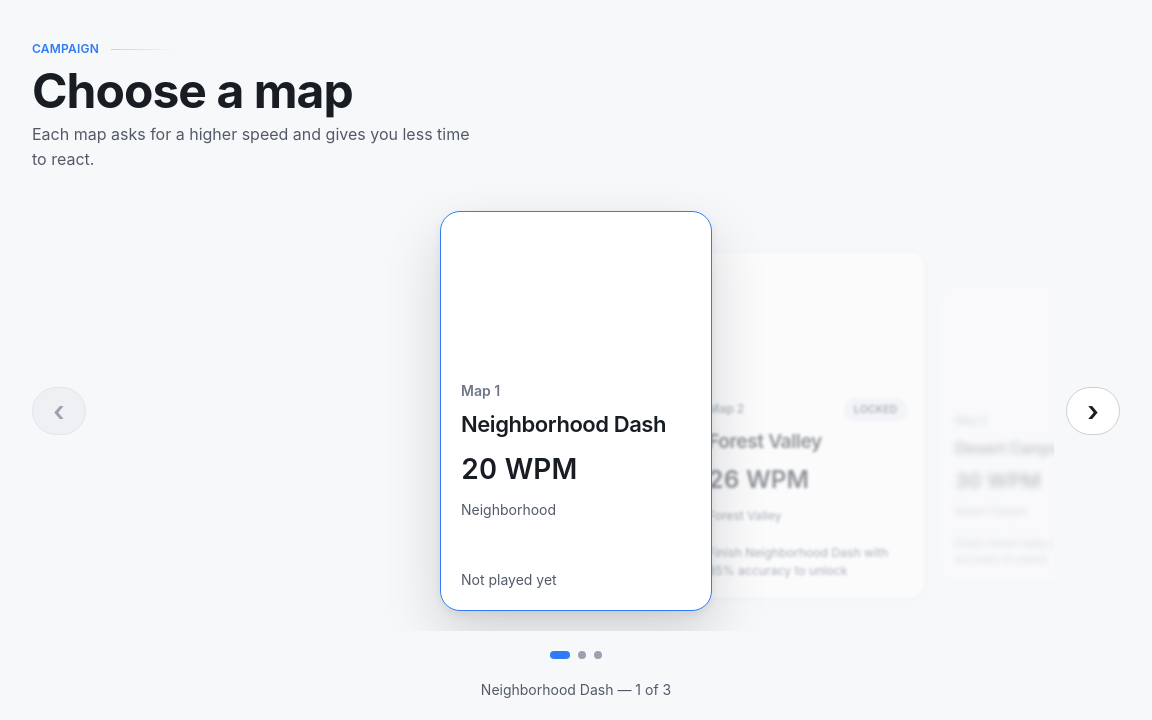
Test: the carousel › says where you are in the row, in words
Expected: the text "Neighborhood Dash — 1 of 3" is shown, [481, 681, 671, 698]
Step 1. Click the button named "Next map" → point(1093, 411), box [1066, 387, 1120, 435]
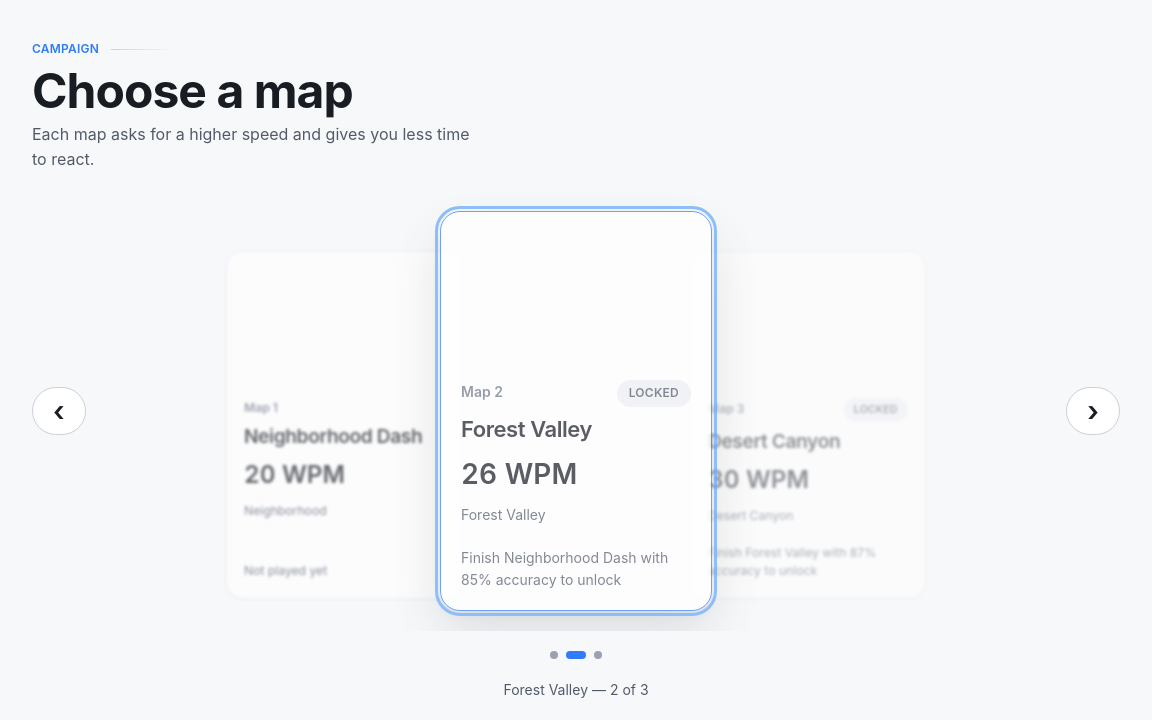
Expected: the text "Forest Valley — 2 of 3" is shown, [504, 681, 649, 698]
